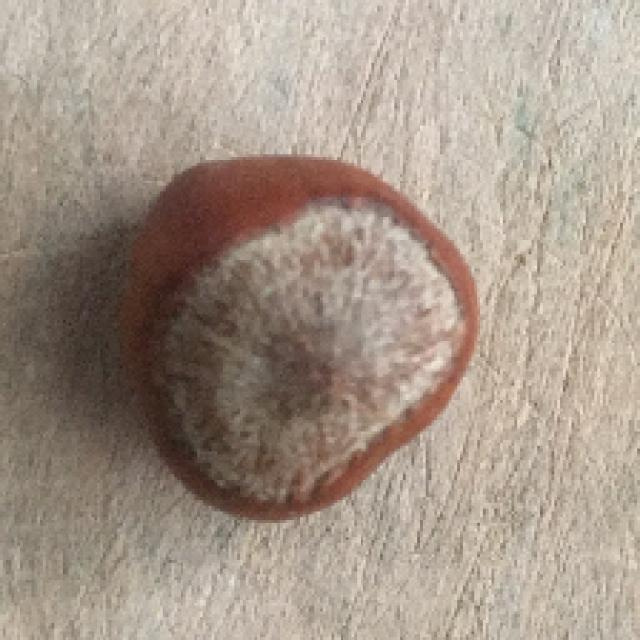qualityHazelnut: (125, 149, 480, 524)
